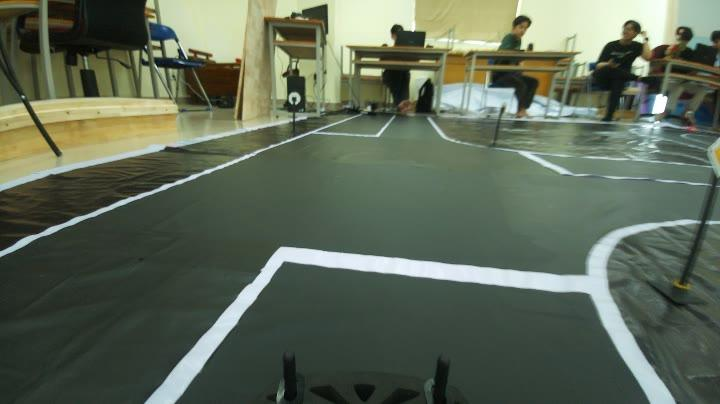priority: (699, 132, 720, 182)
